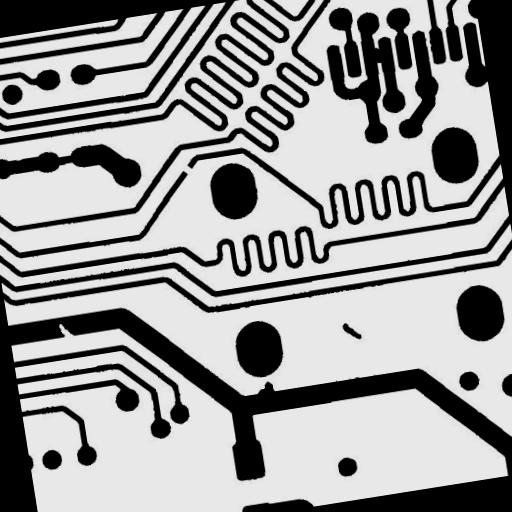copper: (333, 312, 370, 350)
mousebite: (50, 312, 84, 348)
open: (172, 154, 201, 184)
short: (362, 38, 396, 74), (46, 145, 86, 174)
spur: (247, 372, 283, 406)
